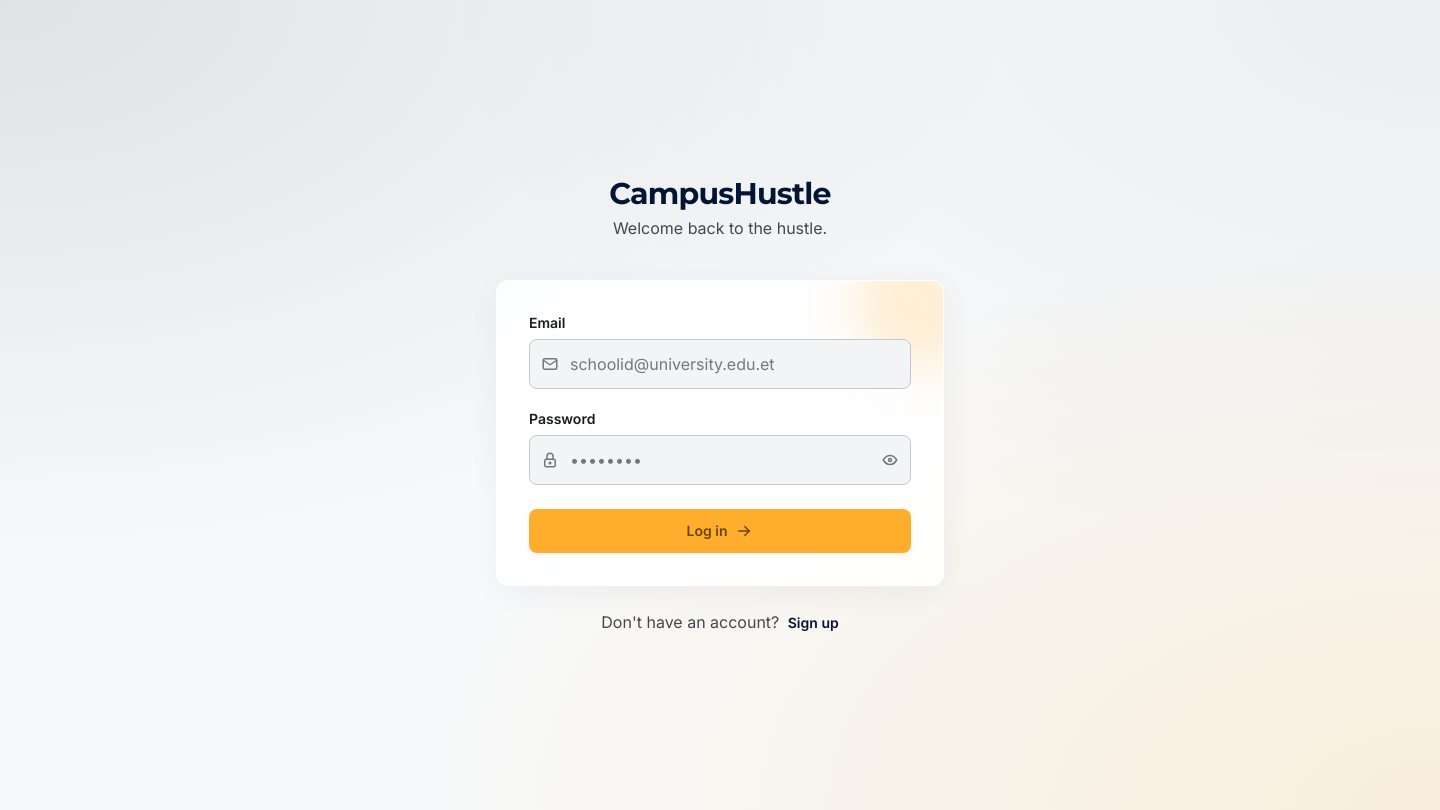
Test: App navigation and session persistence › navigates to a tutor detail page when a tutor card is clicked
The image size is (1440, 810).
Type "student@campus.edu.et" into the field labelled "Email".
click(720, 364); type("student@campus.edu.et")  # box x1=529 y1=339 x2=911 y2=389
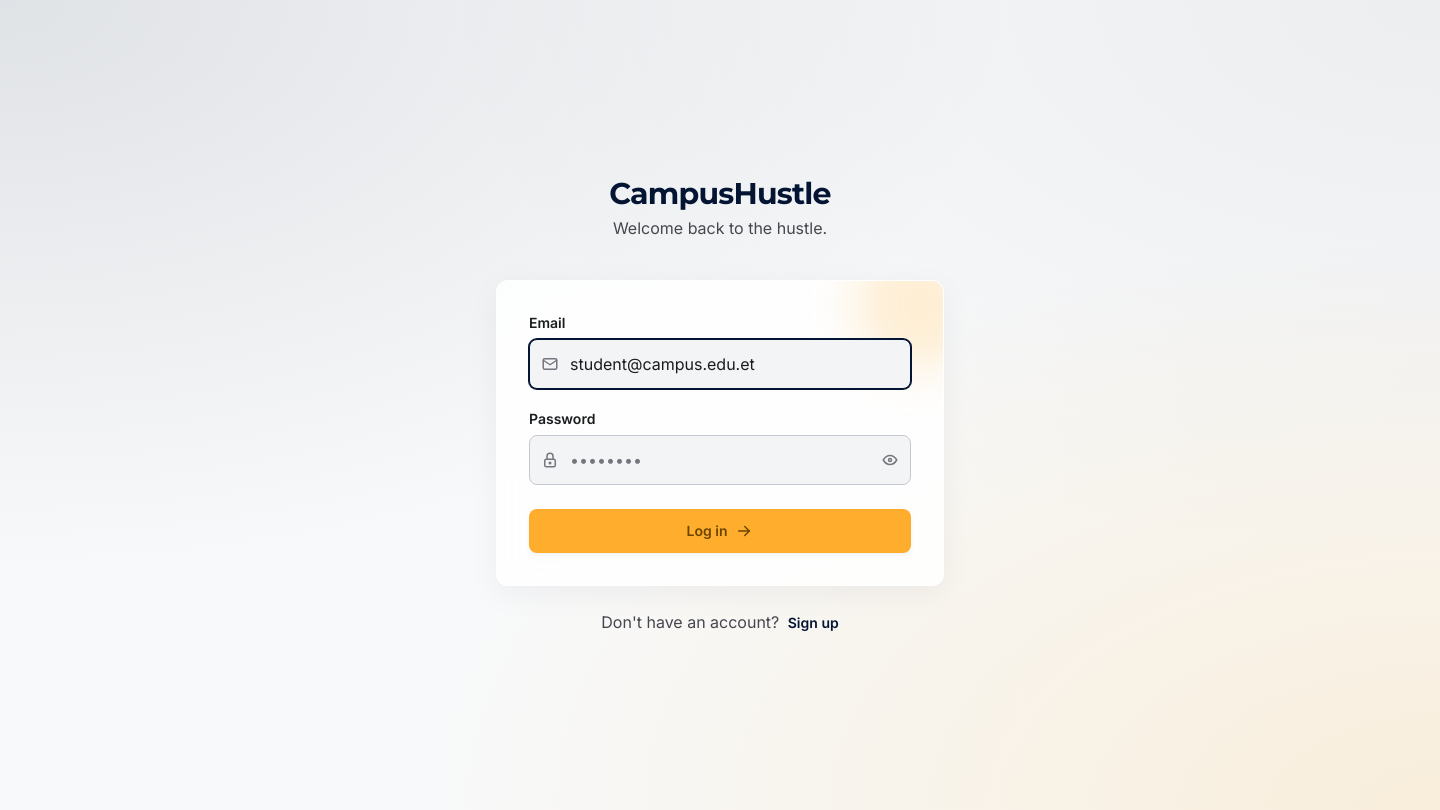
Type "password123" into the password field labelled "Password".
click(720, 460); type("password123")  # box x1=529 y1=435 x2=911 y2=485
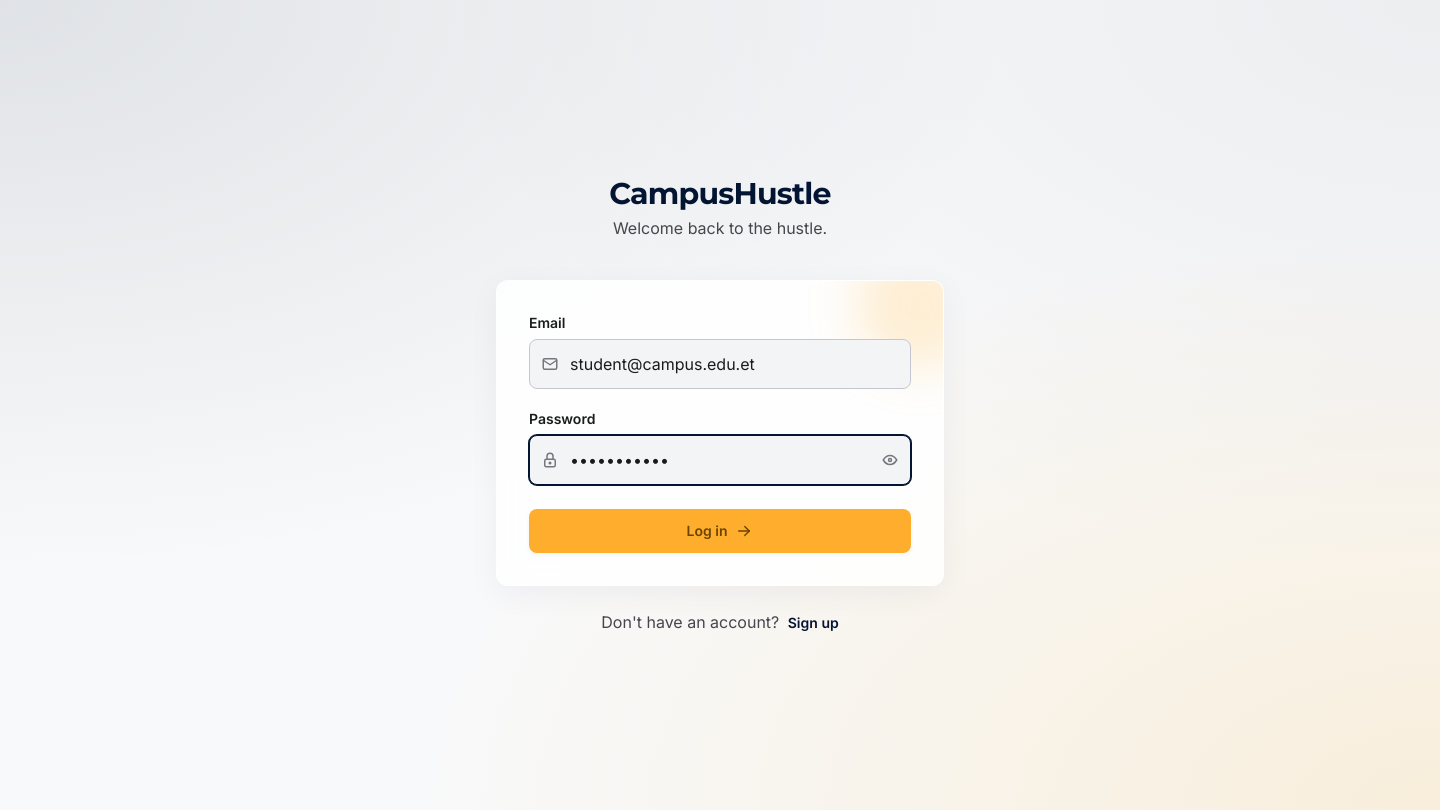
Click the button "Log in".
click(720, 531)  # box x1=529 y1=509 x2=911 y2=553
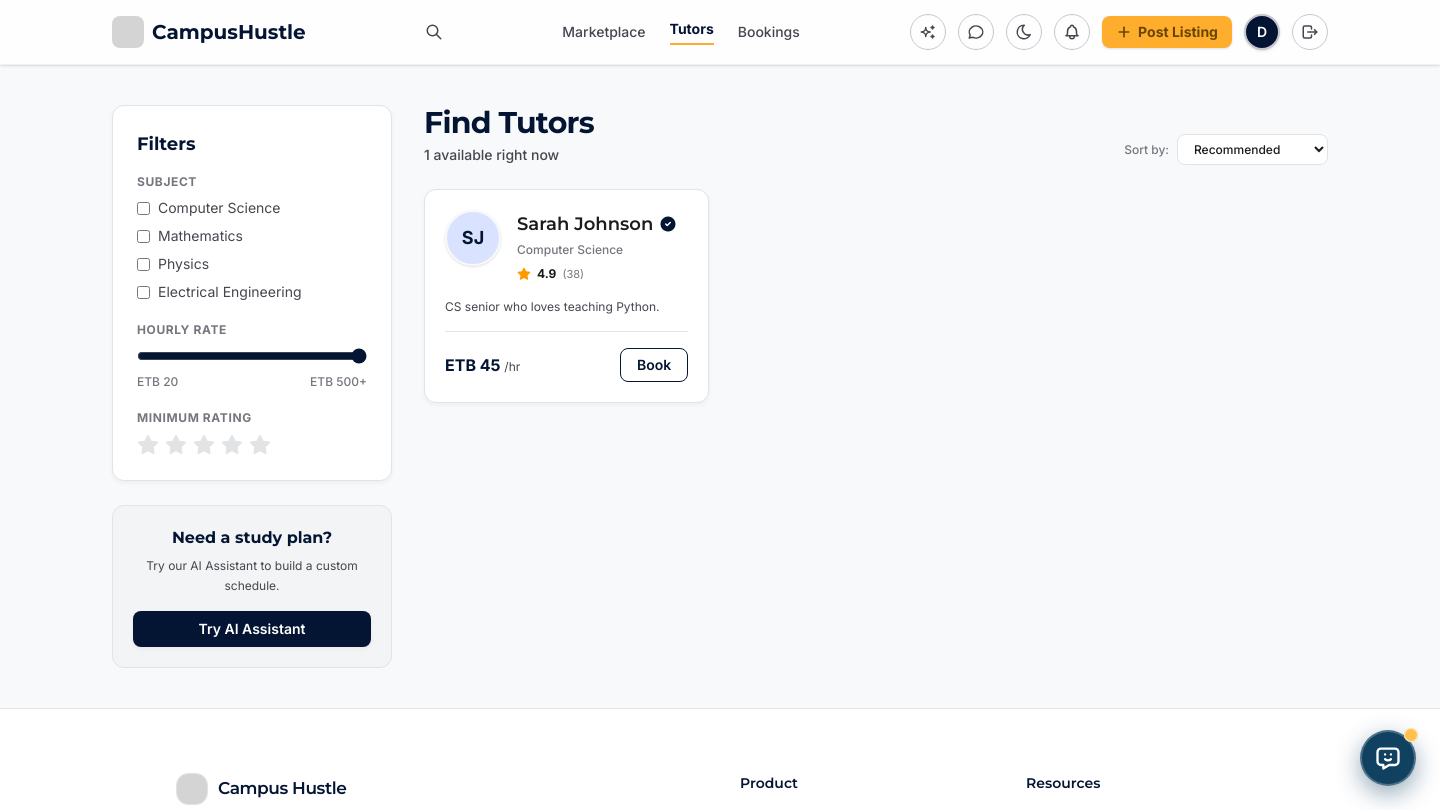
expect the heading "Find Tutors" is shown: met, box x1=424 y1=105 x2=594 y2=141
Click the button named "View profile of Sarah Johnson".
click(567, 296)  # box x1=424 y1=189 x2=709 y2=402
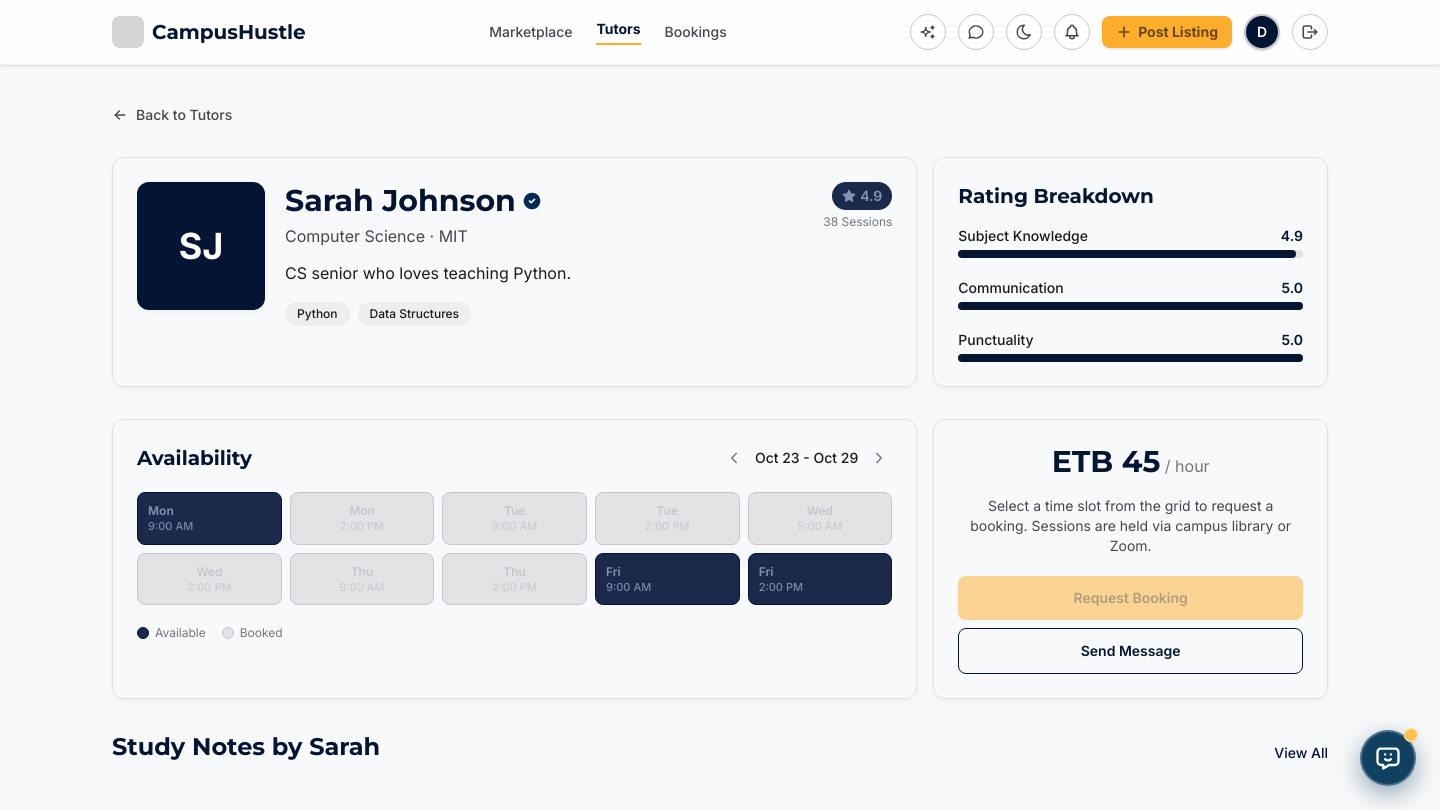
expect the heading "Sarah Johnson" is shown: met, box x1=285 y1=182 x2=542 y2=220
expect the heading "Rating Breakdown" is shown: met, box x1=958 y1=184 x2=1154 y2=208
